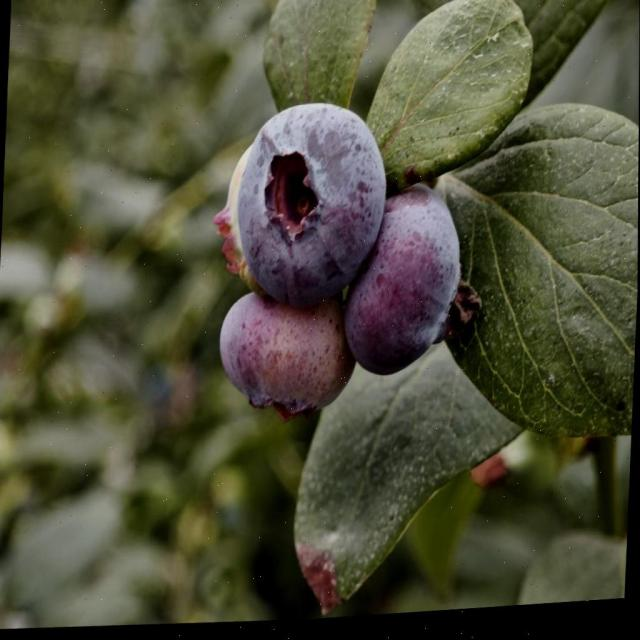Semi-RipeBlueBerry: (235, 100, 388, 317)
